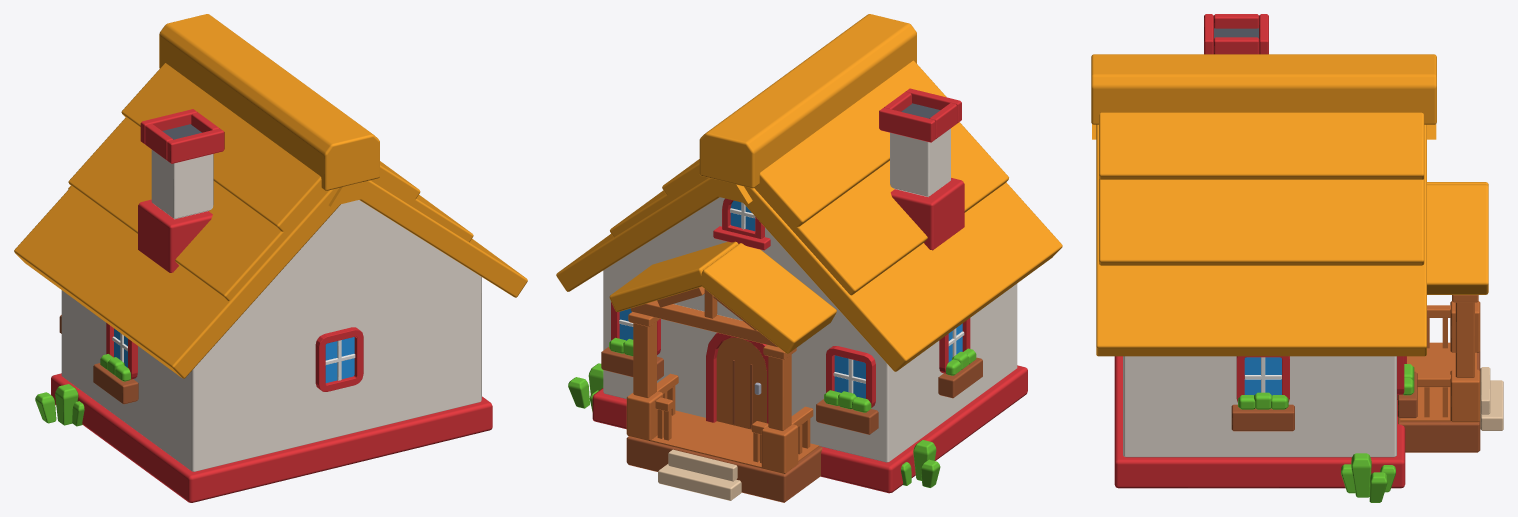
File: Bungalow.glb
3 views of the same model, side by side, from view 1: azimuth 30°, elevation 25°; view 2: azimuth 150°, elevation 25°; view 3: azimuth 270°, elevation 25° (orthographic). The views are drawn at different scales.
Visible parts, largest first — view 1: M_Bungalow_RoofOrange, M_Bungalow_HouseWall, M_Bungalow_ToyRed, M_Bungalow_Leaves, M_Bungalow_TruckCab, M_Bungalow_FenceWood; view 2: M_Bungalow_RoofOrange, M_Bungalow_HouseWall, M_Bungalow_ToyLeg, M_Bungalow_ToyRed, M_Bungalow_FenceWood, M_Bungalow_Leaves, M_Bungalow_HouseTrim, M_Bungalow_TruckCab, M_Bungalow_PlaneBody; view 3: M_Bungalow_RoofOrange, M_Bungalow_HouseWall, M_Bungalow_ToyRed, M_Bungalow_ToyLeg, M_Bungalow_FenceWood, M_Bungalow_Leaves, M_Bungalow_HouseTrim, M_Bungalow_TruckCab.
Part boxes in pixels (x1=…): M_Bungalow_RoofOrange: x1=14, y1=14, x2=527, y2=378; M_Bungalow_HouseWall: x1=61, y1=149, x2=481, y2=471; M_Bungalow_ToyRed: x1=51, y1=109, x2=492, y2=502; M_Bungalow_Leaves: x1=35, y1=354, x2=130, y2=426; M_Bungalow_TruckCab: x1=114, y1=328, x2=354, y2=382; M_Bungalow_FenceWood: x1=59, y1=315, x2=138, y2=404; M_Bungalow_RoofOrange: x1=556, y1=14, x2=1062, y2=371; M_Bungalow_HouseWall: x1=603, y1=128, x2=1017, y2=462; M_Bungalow_ToyLeg: x1=626, y1=287, x2=819, y2=474; M_Bungalow_ToyRed: x1=592, y1=88, x2=1027, y2=493; M_Bungalow_FenceWood: x1=601, y1=347, x2=982, y2=502; M_Bungalow_Leaves: x1=568, y1=337, x2=976, y2=487; M_Bungalow_HouseTrim: x1=658, y1=449, x2=741, y2=500; M_Bungalow_TruckCab: x1=619, y1=200, x2=962, y2=398; M_Bungalow_PlaneBody: x1=619, y1=202, x2=964, y2=393; M_Bungalow_RoofOrange: x1=1091, y1=54, x2=1488, y2=356; M_Bungalow_HouseWall: x1=1123, y1=356, x2=1396, y2=457; M_Bungalow_ToyRed: x1=1114, y1=14, x2=1406, y2=488; M_Bungalow_ToyLeg: x1=1400, y1=295, x2=1480, y2=422; M_Bungalow_FenceWood: x1=1231, y1=352, x2=1480, y2=452; M_Bungalow_Leaves: x1=1238, y1=364, x2=1414, y2=502; M_Bungalow_HouseTrim: x1=1480, y1=367, x2=1503, y2=430; M_Bungalow_TruckCab: x1=1244, y1=357, x2=1281, y2=395.
Bounding box in the file's own units: 13.11 × 11.51 × 12.35.
